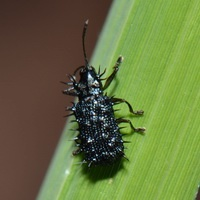insect: (63, 20, 144, 166)
